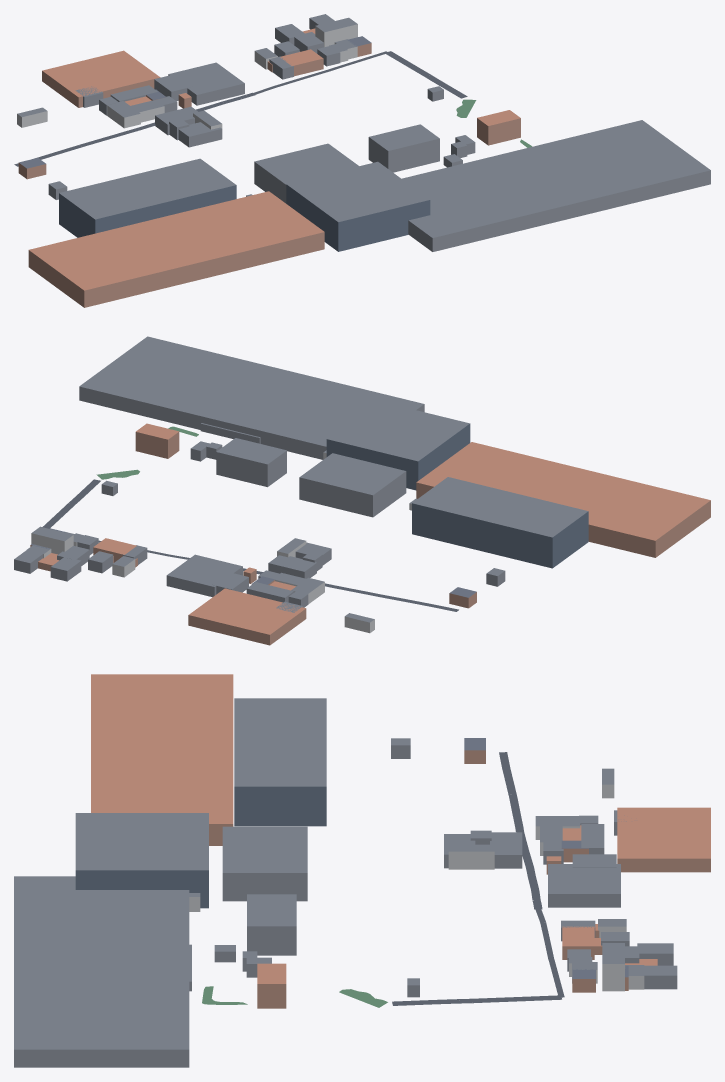
Rendered from tile_3_6_lod1.glb.
3 renders of one model, top to bottom at view 1: azimuth 30°, elevation 25°; view 2: azimuth 150°, elevation 25°; view 3: azimuth 270°, elevation 25°, orthographic. The views are drawn at different scales.
Visible parts, largest first — view 1: TileRoot; view 2: TileRoot; view 3: TileRoot.
Boxes of the visible parts, x1,y1,x2,y2 form: TileRoot: (14,14,710,307); TileRoot: (14,336,710,645); TileRoot: (14,674,710,1067).
Bounding box in the file's own units: 584 × 29.22 × 463.
